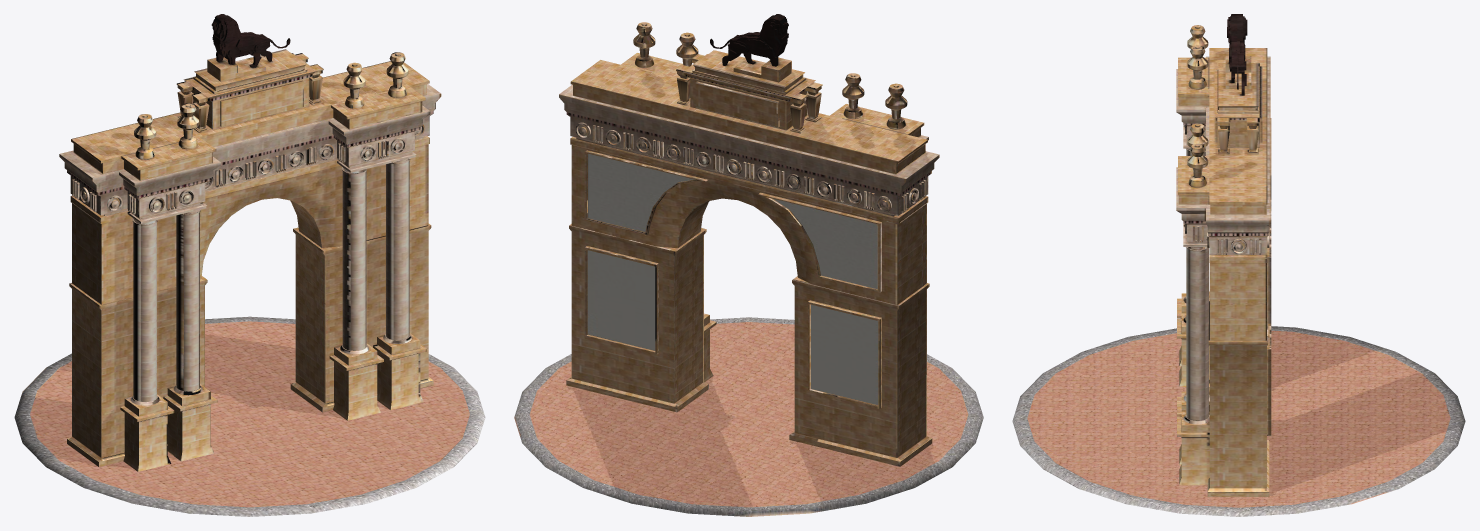
3 views of the same model, side by side, from view 1: azimuth 30°, elevation 25°; view 2: azimuth 150°, elevation 25°; view 3: azimuth 270°, elevation 25° (orthographic). The views are drawn at different scales.
Parts seen in each view (by area): view 1: OG_BaseArco, OG_BaseLeon; view 2: OG_BaseArco, OG_BaseLeon; view 3: OG_BaseArco, OG_BaseLeon.
Part boxes in pixels (<box>): OG_BaseArco: <box>14,49,485,516</box>; OG_BaseLeon: <box>211,14,290,67</box>; OG_BaseArco: <box>514,22,983,516</box>; OG_BaseLeon: <box>710,14,788,66</box>; OG_BaseArco: <box>1012,25,1465,516</box>; OG_BaseLeon: <box>1227,14,1247,95</box>.
Size of the model in its own units: 4.13 by 3.95 by 4.13.
Materials: 2 (2 with a texture image).
